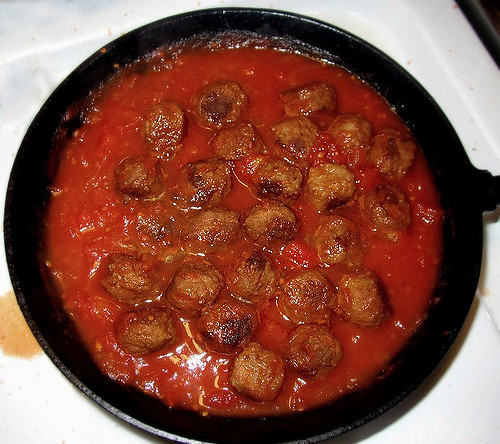meatballs: (112, 77, 411, 387)
